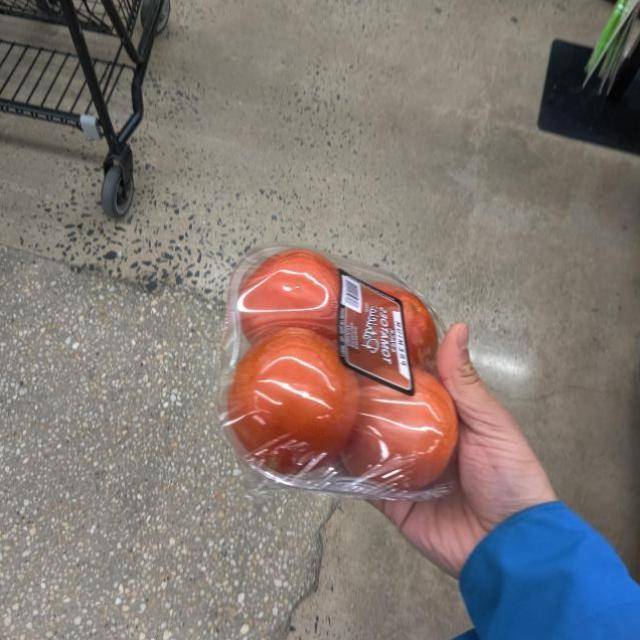Tomatoes: (228, 246, 465, 491)
